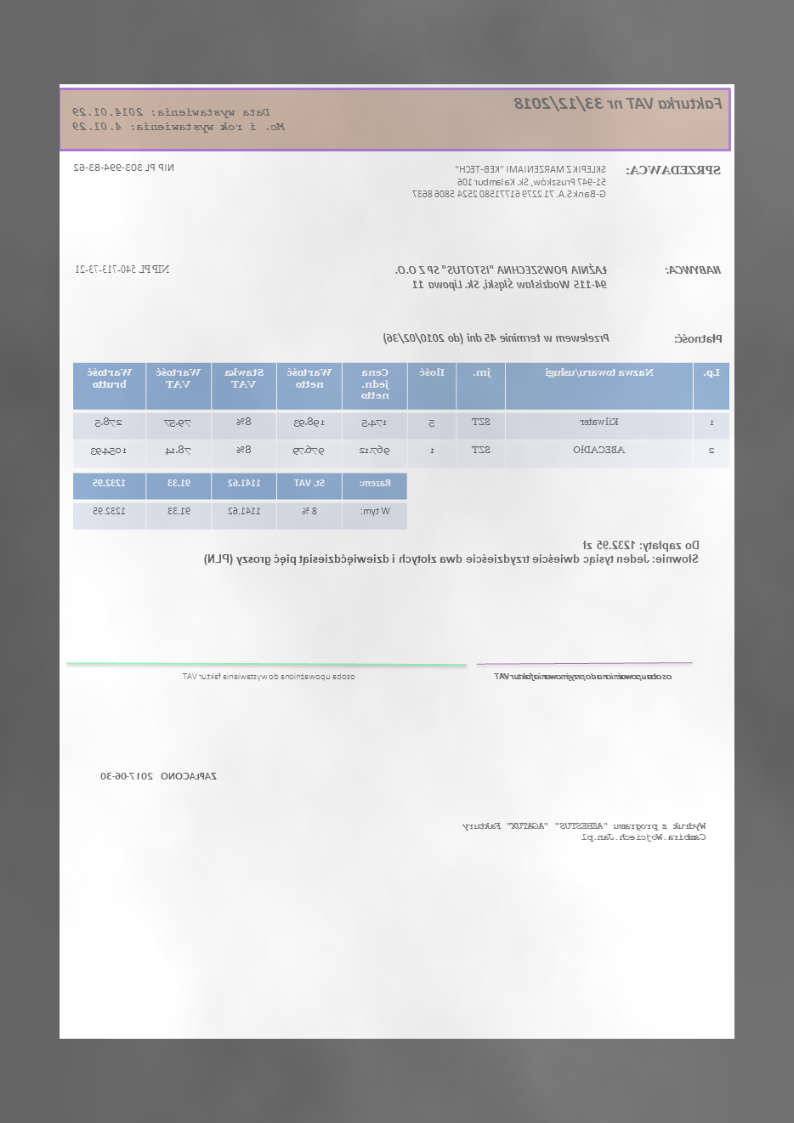Table: (72, 360, 732, 468), (72, 471, 410, 531)
TextBox: (202, 537, 702, 569), (411, 161, 609, 202), (71, 104, 289, 135), (392, 262, 610, 292), (459, 818, 708, 844), (512, 91, 726, 114), (382, 331, 612, 345), (494, 669, 675, 683), (179, 670, 359, 683), (98, 768, 219, 784), (626, 162, 724, 179), (71, 159, 177, 174), (72, 261, 173, 276), (665, 263, 724, 278), (672, 331, 726, 346)
